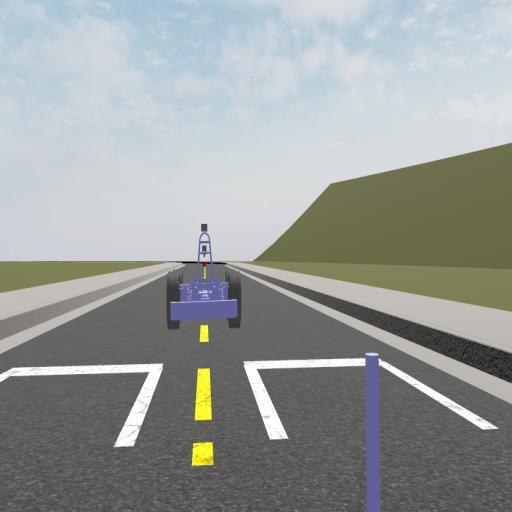ERP-42: (167, 223, 242, 329)
